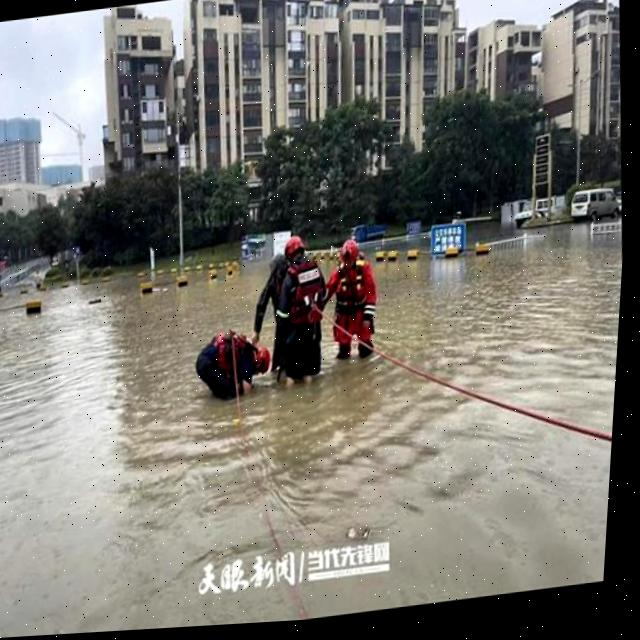rescuer: (260, 223, 346, 392), (319, 225, 402, 361), (166, 321, 285, 414), (234, 248, 300, 350)
